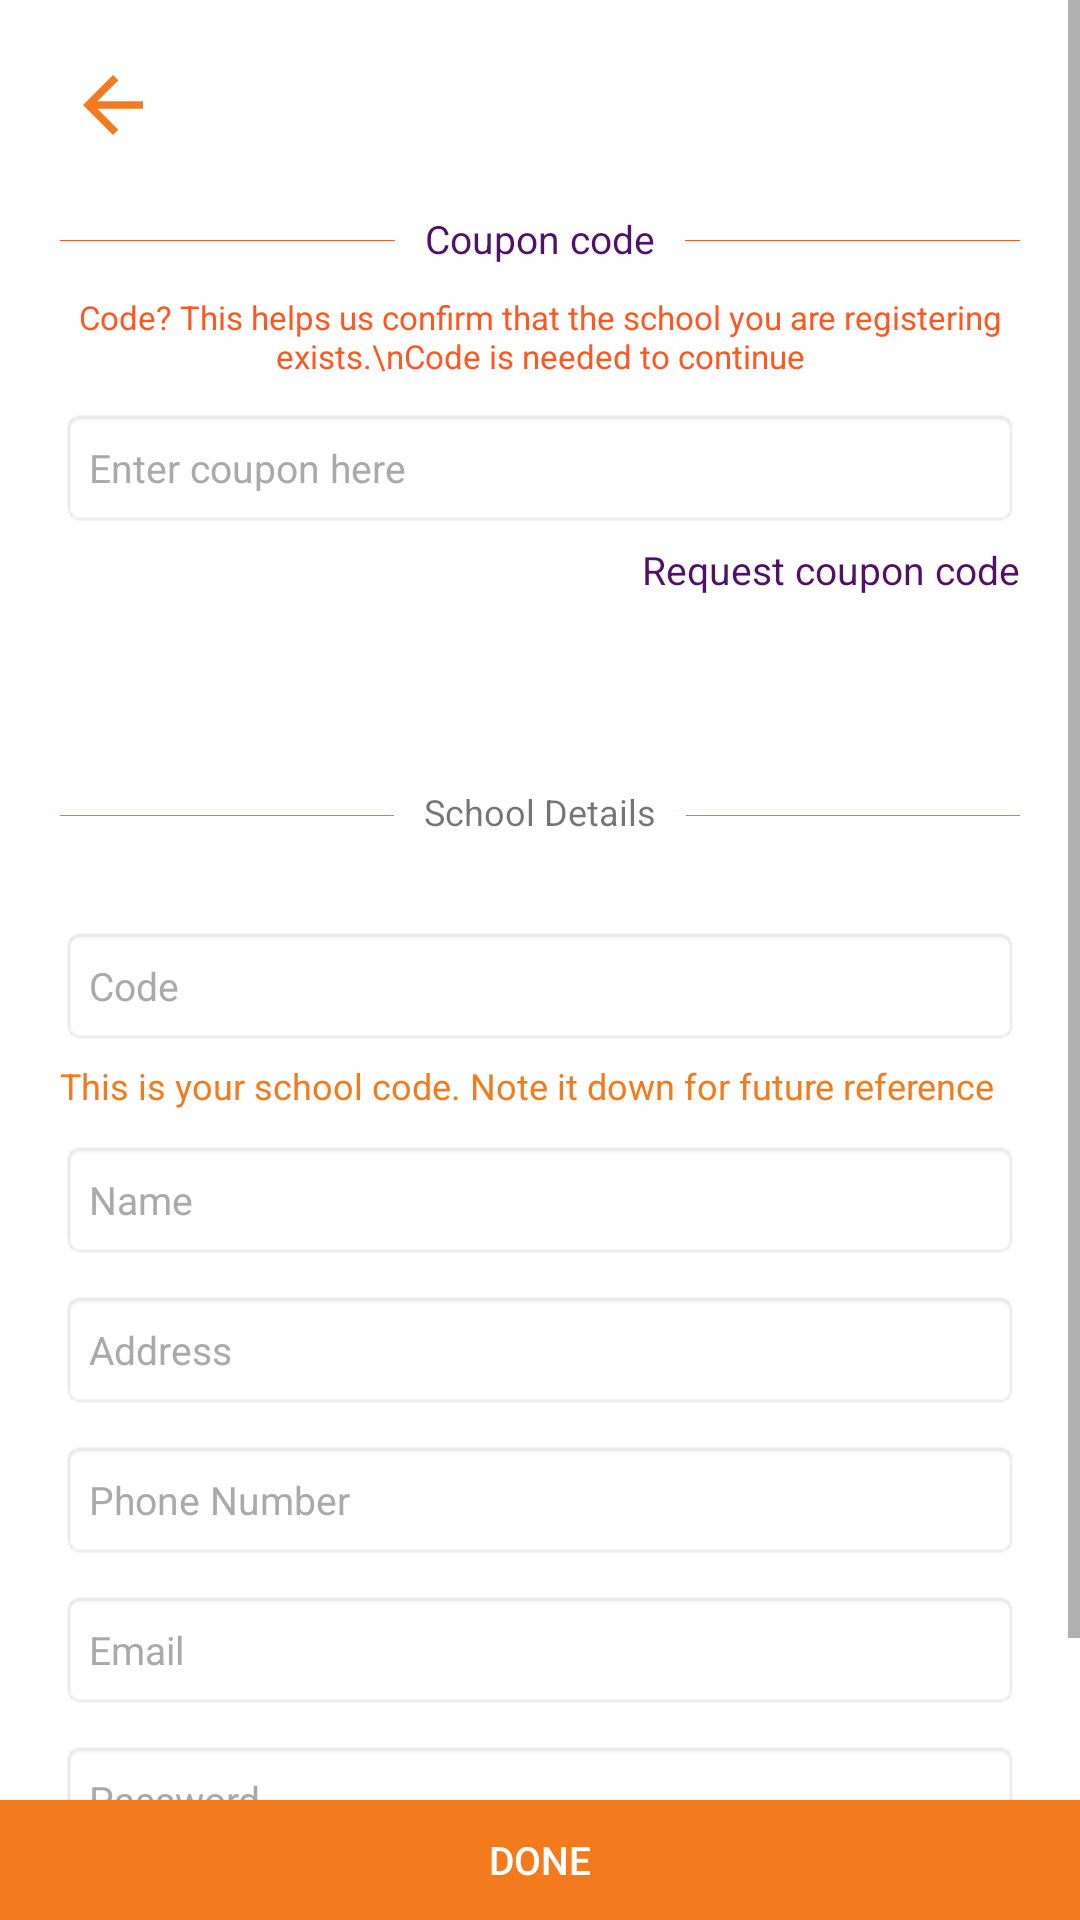

Icon bounding boxes for this 1080*1920 phone screenshot, format (x1, y1, x2, y2):
back: (83, 75, 143, 135)
